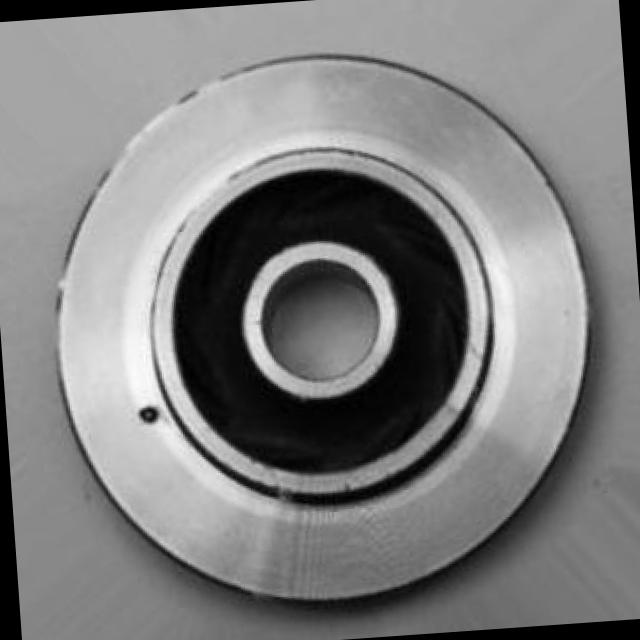Defect: (132, 402, 170, 426)
